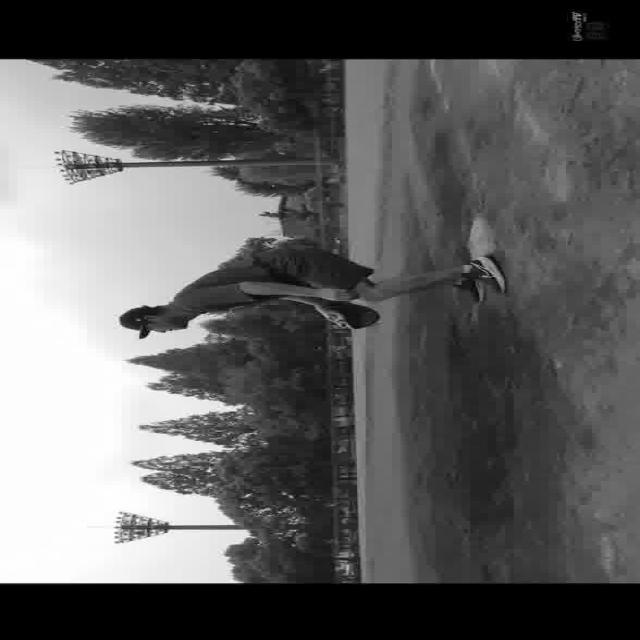base: (462, 214, 498, 260)
baseball_glove: (313, 298, 387, 326)
shoe: (461, 257, 517, 293), (456, 265, 482, 306)
